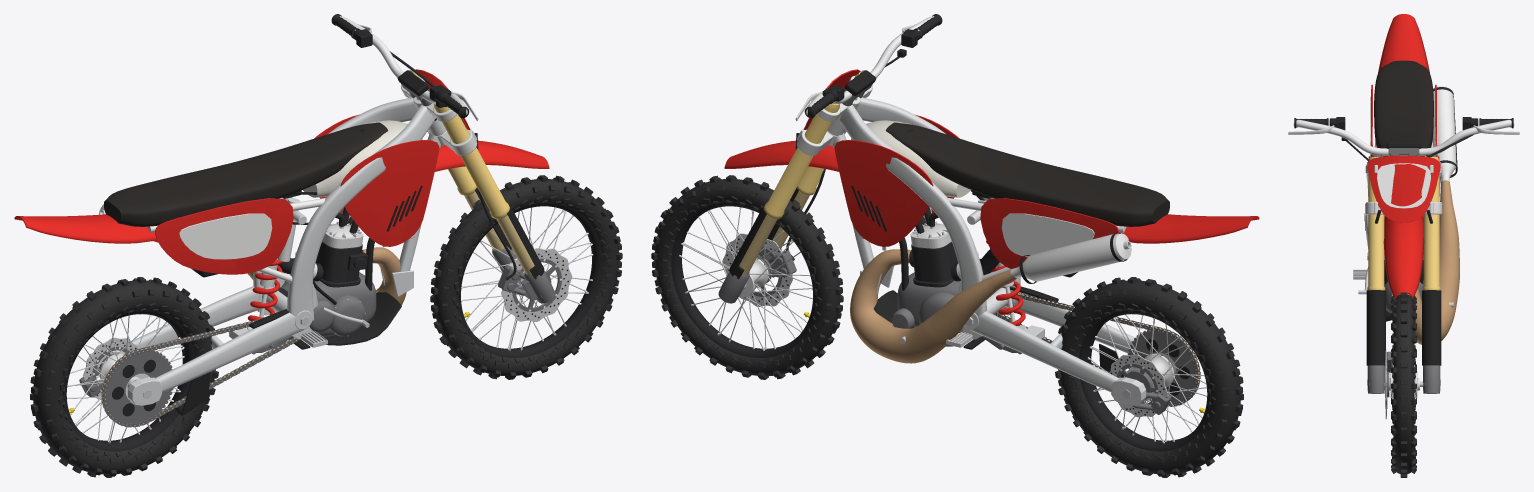
The model's file is bike_mx_2t.glb.
The picture shows the model from 3 angles, left to right: view 1: azimuth 30°, elevation 25°; view 2: azimuth 150°, elevation 25°; view 3: azimuth 270°, elevation 25°; orthographic projection. The views are drawn at different scales.
Visible parts, largest first — view 1: wheels__rear_wheel__tyre, wheels__front_wheel__tyre, frame_body__seat, frame_body__frame__main_spars, frame_body__radiator_shrouds__left, chassis__swingarm, frame_body__side_panels__left, frame_body__side_panels__number_backgrounds, wheels__front_wheel__rim, frame_body__rear_mudguard, transmission__rear_sprocket, wheels__rear_wheel__rim (+21 smaller); view 2: wheels__rear_wheel__tyre, wheels__front_wheel__tyre, frame_body__seat, powertrain__exhaust__expansion_chamber, frame_body__frame__main_spars, frame_body__radiator_shrouds__right, chassis__swingarm, powertrain__exhaust__silencer, wheels__front_wheel__rim, frame_body__side_panels__right, wheels__rear_wheel__rim, frame_body__side_panels__number_backgrounds (+19 smaller); view 3: frame_body__seat, wheels__front_wheel__tyre, frame_body__number_plate, powertrain__exhaust__expansion_chamber, frame_body__front_mudguard, frame_body__rear_mudguard, chassis__front_fork__left_guard, chassis__front_fork__right_guard, chassis__handlebar__bar, powertrain__exhaust__silencer, chassis__front_fork__left_outer_tube, chassis__front_fork__right_outer_tube (+7 smaller).
Boxes of the visible parts, x1,y1,x2,y2 form: wheels__rear_wheel__tyre: (30,277,218,477); wheels__front_wheel__tyre: (430,175,622,379); frame_body__seat: (104,122,388,226); frame_body__frame__main_spars: (253,97,446,339); frame_body__radiator_shrouds__left: (340,140,439,246); chassis__swingarm: (89,286,303,405); frame_body__side_panels__left: (155,198,293,274); frame_body__side_panels__number_backgrounds: (179,213,272,259); wheels__front_wheel__rim: (457,202,602,357); frame_body__rear_mudguard: (14,214,156,243); transmission__rear_sprocket: (102,349,173,423); wheels__rear_wheel__rim: (64,310,194,451); wheels__rear_wheel__tyre: (1055,277,1243,477); wheels__front_wheel__tyre: (651,175,843,379); frame_body__seat: (885,122,1169,226); powertrain__exhaust__expansion_chamber: (850,249,1017,363); frame_body__frame__main_spars: (827,97,1020,339); frame_body__radiator_shrouds__right: (834,140,933,246); chassis__swingarm: (970,287,1176,405); powertrain__exhaust__silencer: (1010,233,1131,281); wheels__front_wheel__rim: (671,202,816,357); frame_body__side_panels__right: (980,198,1118,268); wheels__rear_wheel__rim: (1079,310,1209,451); frame_body__side_panels__number_backgrounds: (1001,213,1094,257); frame_body__seat: (1374,60,1433,156); wheels__front_wheel__tyre: (1391,293,1416,477); frame_body__number_plate: (1367,155,1440,222); powertrain__exhaust__expansion_chamber: (1408,180,1459,344); frame_body__front_mudguard: (1383,216,1424,298); frame_body__rear_mudguard: (1378,14,1429,72); chassis__front_fork__left_guard: (1366,290,1385,365); chassis__front_fork__right_guard: (1422,290,1441,365); chassis__handlebar__bar: (1293,119,1514,155); powertrain__exhaust__silencer: (1432,86,1456,181); chassis__front_fork__left_outer_tube: (1367,157,1385,290); chassis__front_fork__right_outer_tube: (1422,157,1440,290).
Size of the model in its own units: 222 by 122 by 86.18.
